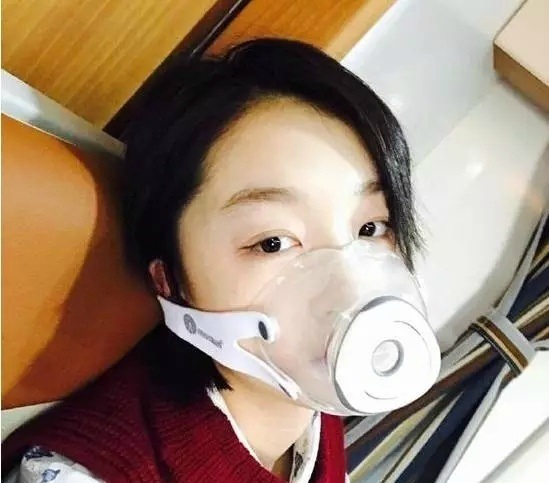face_mask: (189, 132, 423, 416)
